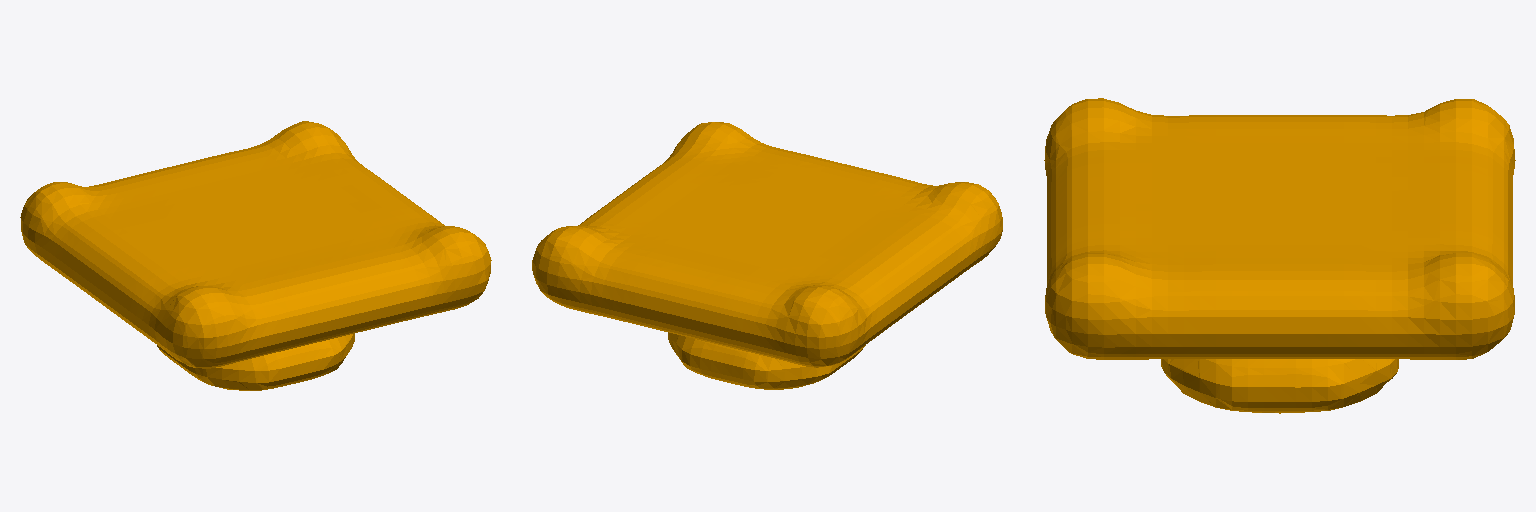
URDF robot description (S07_3):
<?xml version="1.0"?>
<robot name="S07_3">
  <link name="base_link">
    <visual>
      <geometry>
        <mesh filename="../../../../meshes/egad/train/S07_3.obj" />
      </geometry>
    </visual>
  </link>
</robot>

--- Facts derived from the render (not from the file) ---
The picture shows the robot from 3 angles, left to right: view 1: azimuth 30°, elevation 25°; view 2: azimuth 150°, elevation 25°; view 3: azimuth 270°, elevation 25°; orthographic projection.
Model S07_3 with 1 links and 0 joints (none), rooted at base_link, posed all joints at 0.
Links seen in each view (by area): view 1: base_link; view 2: base_link; view 3: base_link.
Link boxes in pixels (x1,y1,x2,y2): base_link: (20, 121, 491, 390); base_link: (532, 122, 1002, 389); base_link: (1044, 98, 1515, 413).
Size in the robot's own frame: 0.075 by 0.075 by 0.0367 metres.
Meshes: 1 distinct files referenced, 1 mesh visuals loaded (1 OBJ).